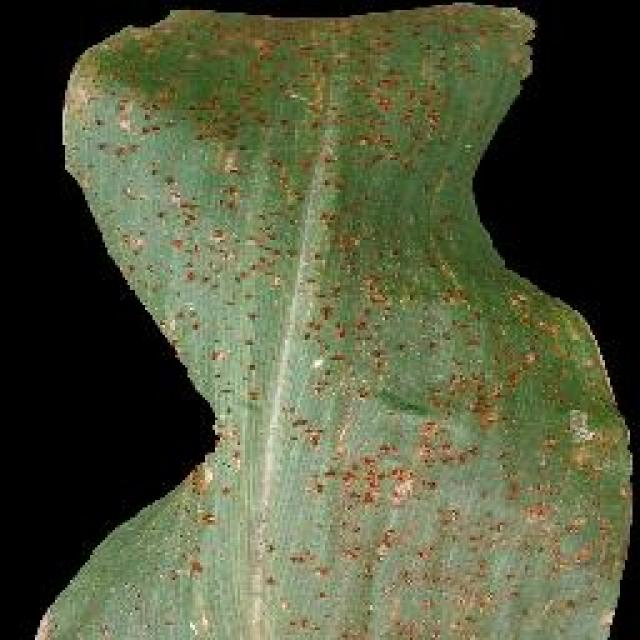Corn Common Rust: (112, 84, 603, 634)
